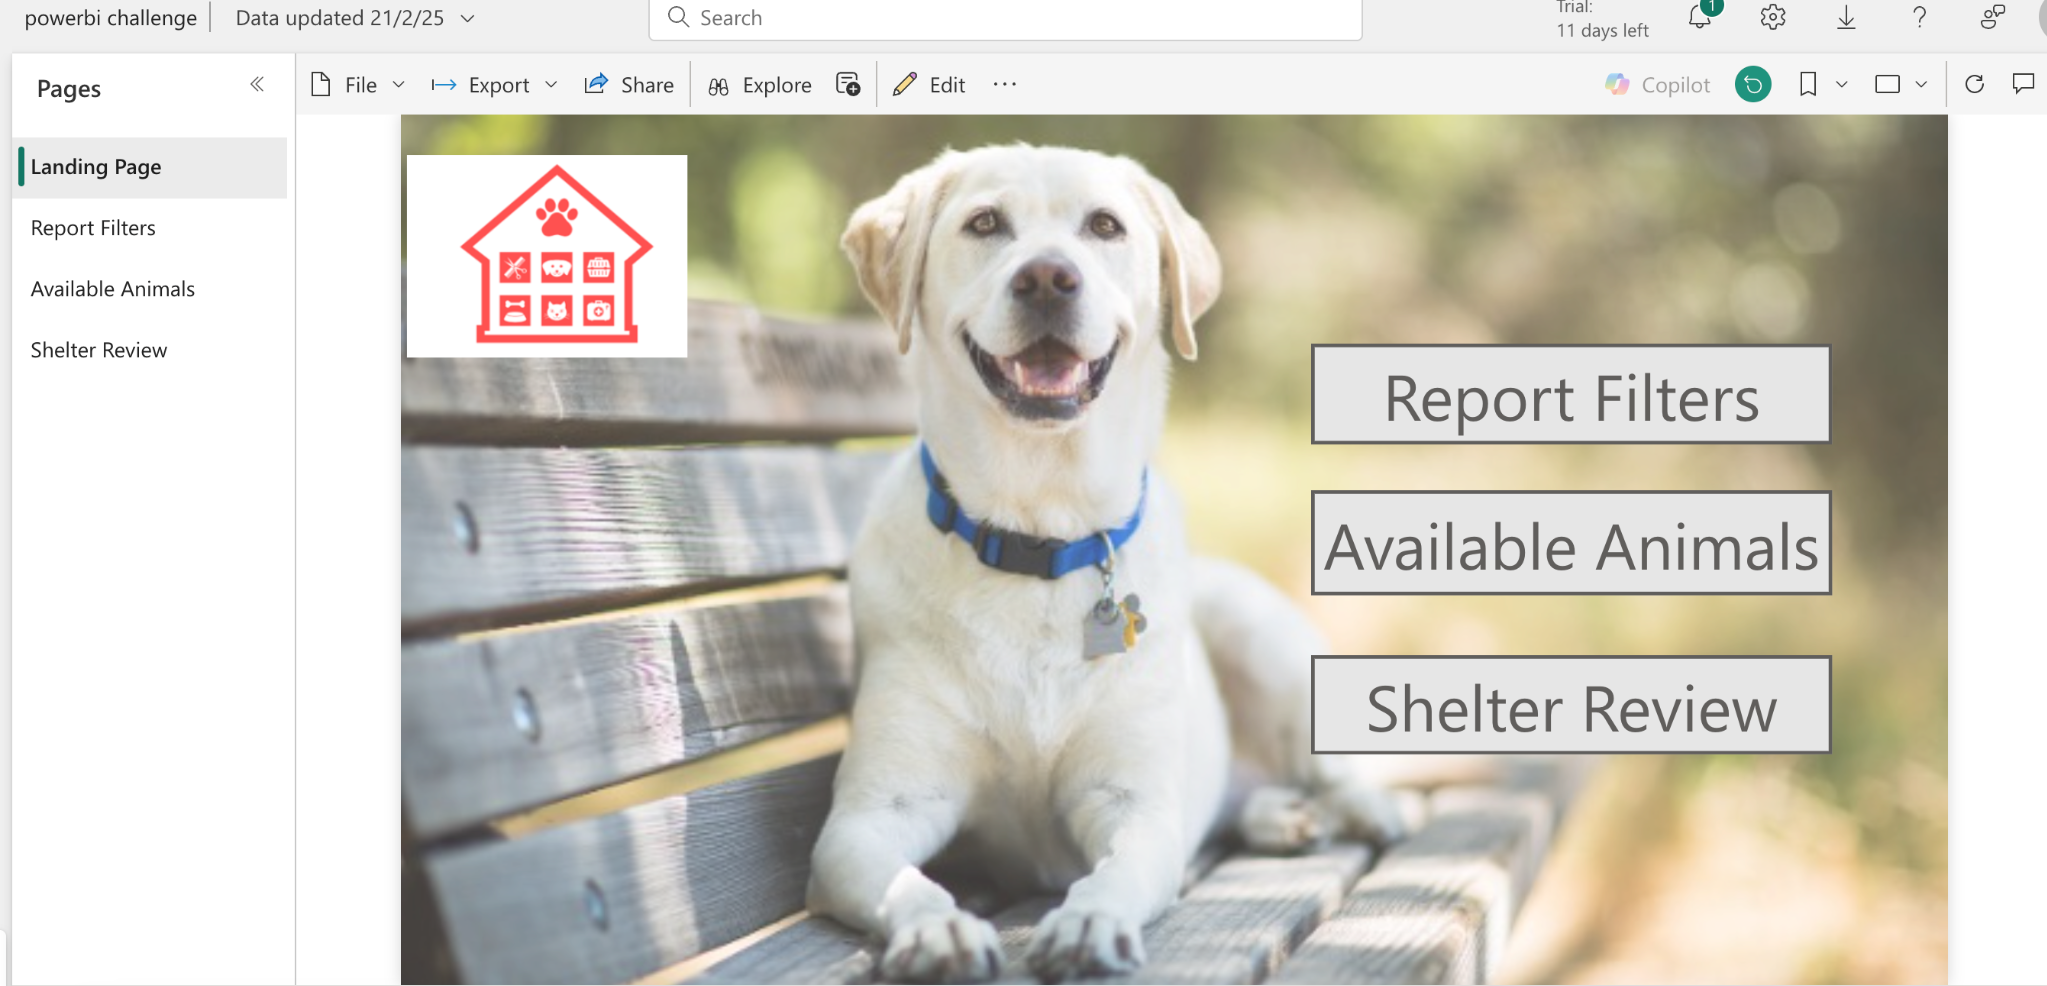

Layout of this report page (visuals, bound fields, positions):
{"tool":"powerbi","page":{"name":"Landing Page","canvas":[1280,720],"ordinal":0},"visuals":[{"type":"image","box":[0,0,242,234.9],"z":0},{"type":"actionButton","box":[752.9,189.1,431.1,83.4],"z":1000},{"type":"actionButton","box":[752.9,311.3,431.1,86.9],"z":2000},{"type":"actionButton","box":[752.9,447.5,431.1,82.2],"z":3000}]}

Visuals, with their boxes on the page's 1280x720 design canvas (x1, y1, x2, y2). These are canvas units, not pixel positions in the 2047x986 screenshot, which may show the page scaled, cropped or inside an application window:
image: [x1=0, y1=0, x2=242, y2=235]
actionButton: [x1=753, y1=189, x2=1184, y2=272]
actionButton: [x1=753, y1=311, x2=1184, y2=398]
actionButton: [x1=753, y1=448, x2=1184, y2=530]
